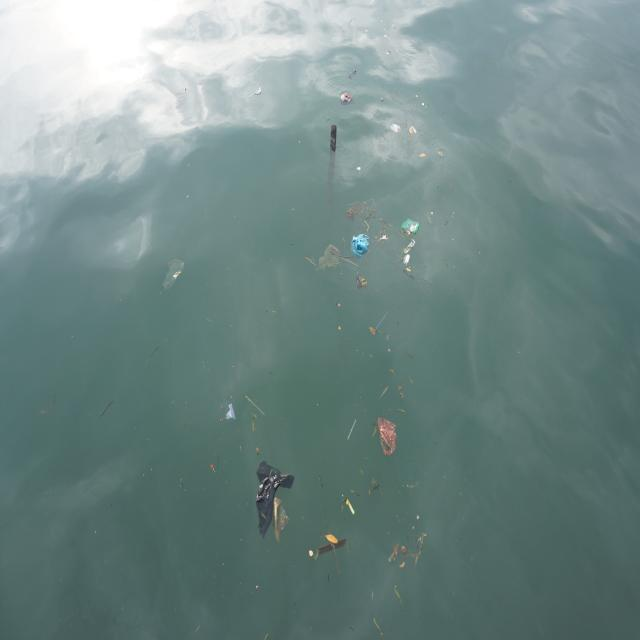Bungkus Makanan: (401, 216, 422, 239)
Bungkus Minuman: (356, 273, 369, 293)
Kantong Plastik: (255, 461, 296, 542), (378, 415, 399, 458), (318, 245, 342, 275), (351, 234, 371, 259)
